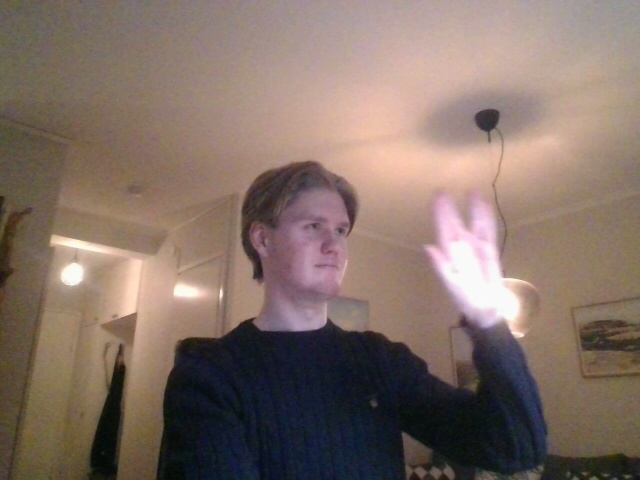LiveLong: (421, 188, 506, 311)
